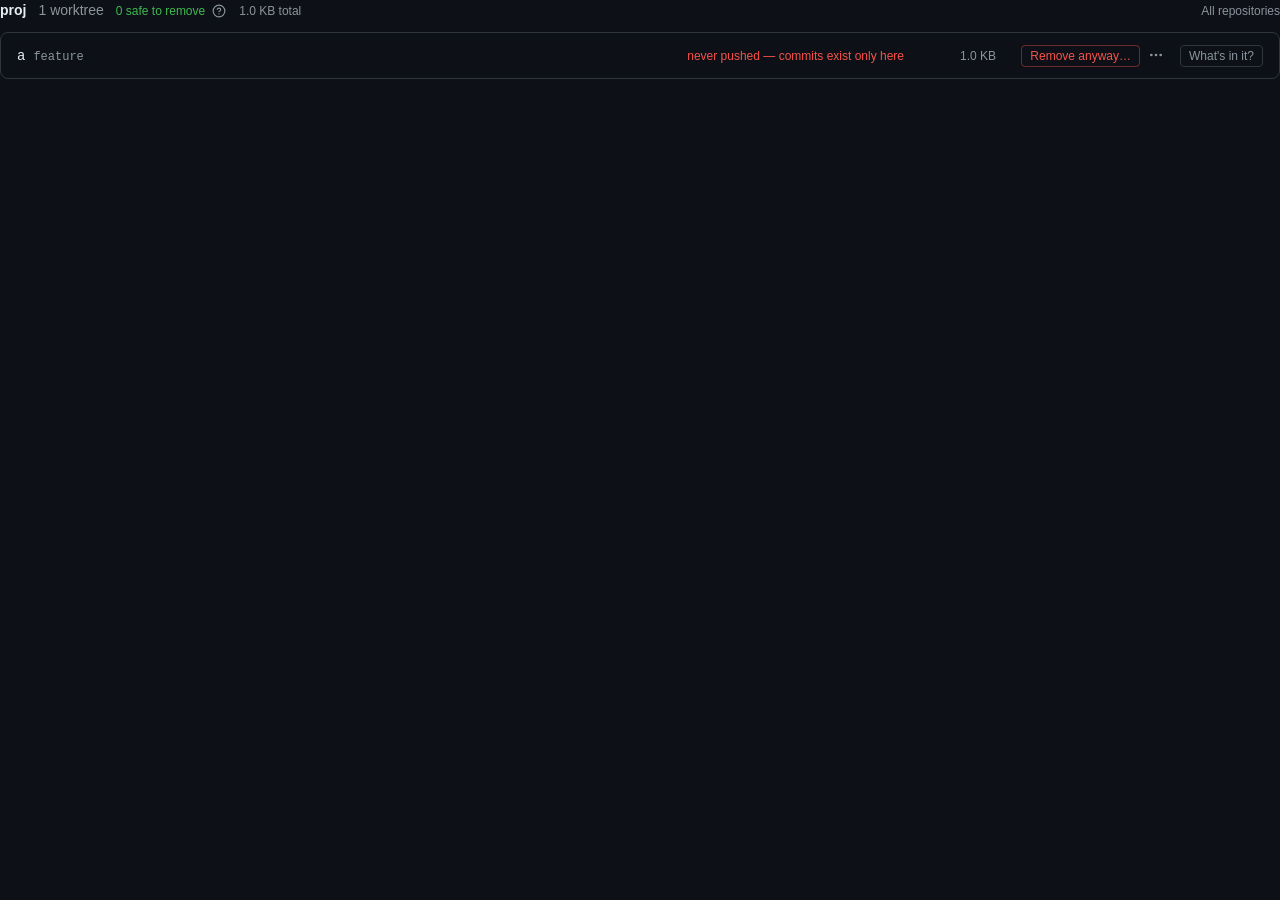
WorktreesPage › after an assessment › names the specific loss before removing
What coordinates should you click on to do the following:
click the button "Remove anyway…"
I would click on:
 (1081, 56)
Its box is [1021,44,1140,66].
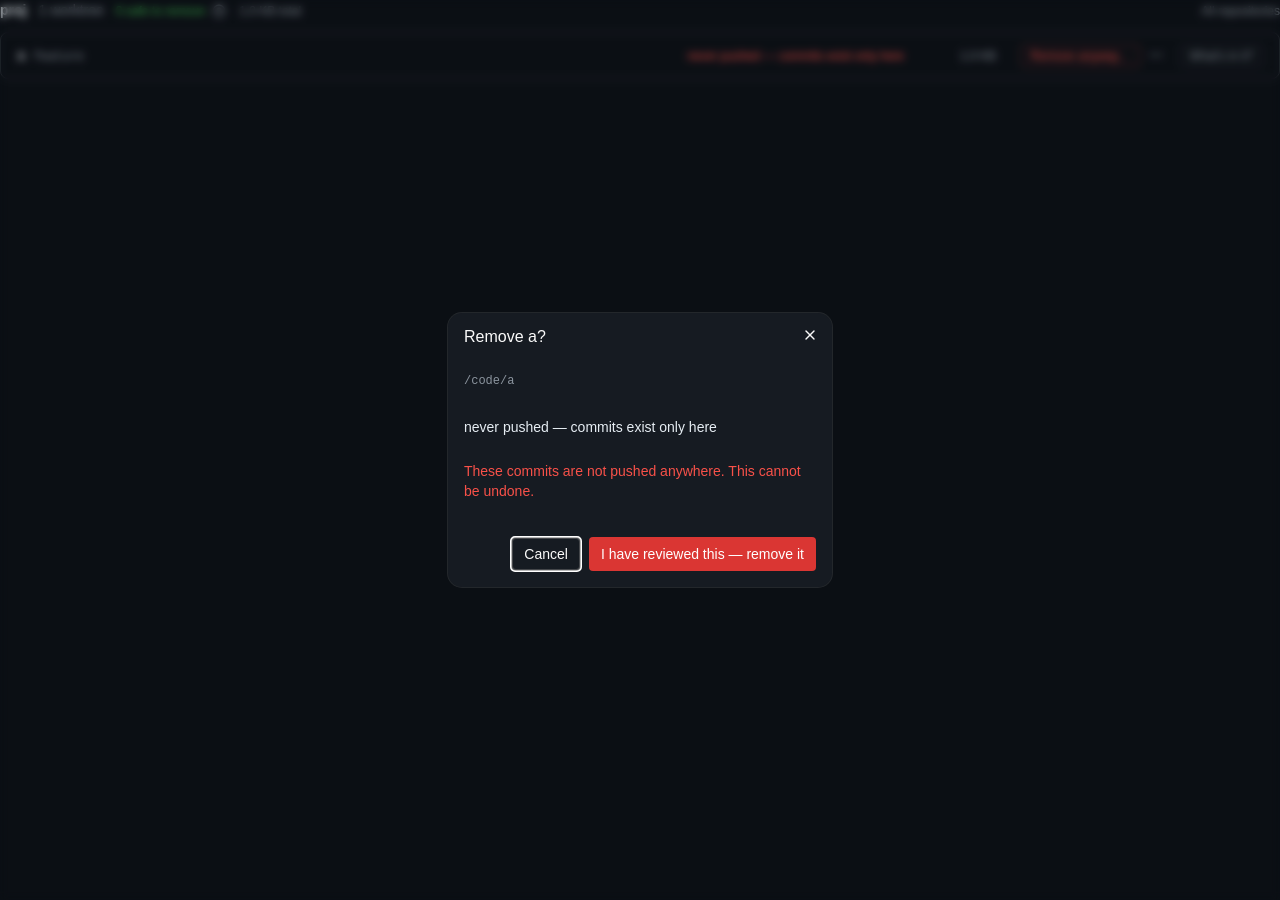
Now the text "/code/a" is shown, box [464,374,514,388]
Now the text "not pushed anywhere" is shown, box [464,463,801,499]
